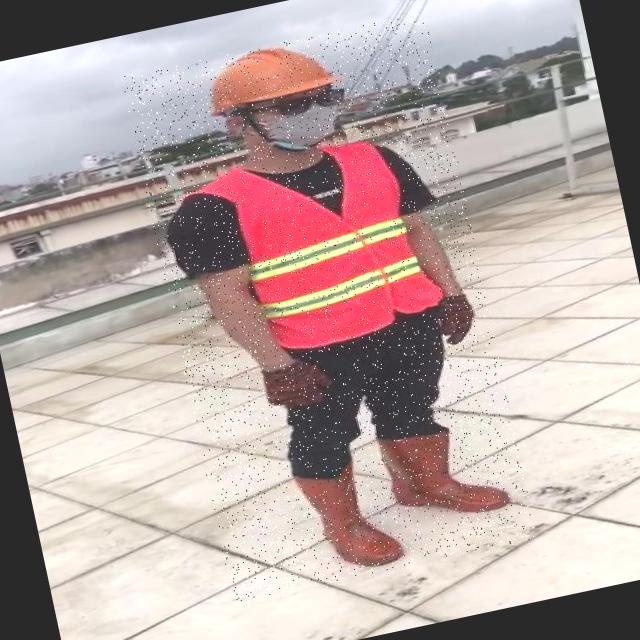boots: (373, 413, 512, 530), (292, 455, 406, 578)
gloves: (415, 278, 491, 364), (250, 343, 328, 419)
helmet: (190, 30, 348, 120)
vest: (224, 128, 443, 358)
